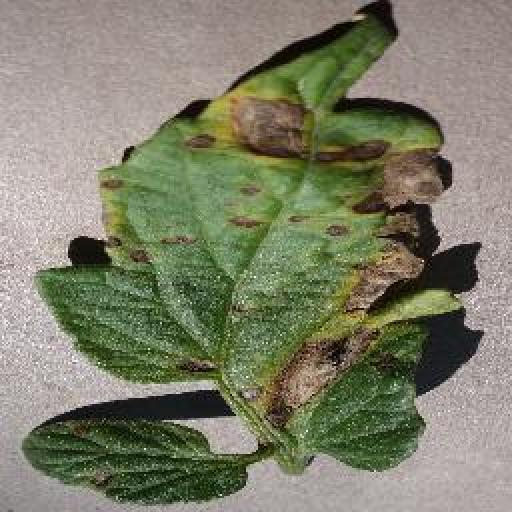Early Blight: (22, 13, 464, 511)
